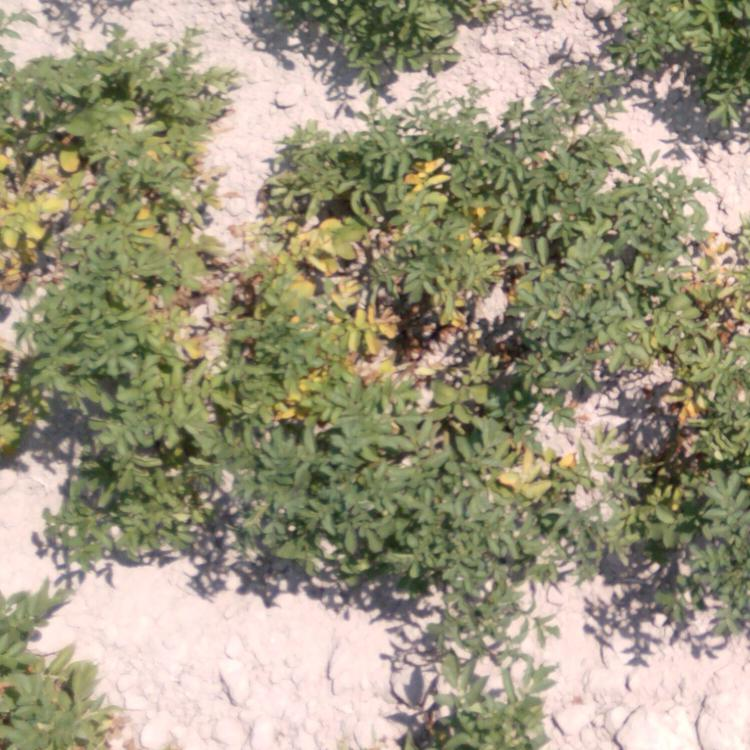healthy: (222, 453, 465, 573), (53, 412, 206, 565), (411, 583, 535, 750), (3, 587, 106, 750), (494, 105, 655, 200), (626, 1, 735, 116), (291, 1, 460, 71)
stressed: (212, 223, 371, 433), (383, 217, 516, 439), (1, 53, 188, 194), (622, 421, 750, 598), (620, 240, 750, 401), (4, 195, 191, 302), (281, 115, 463, 210), (489, 449, 604, 575), (35, 307, 180, 398), (529, 216, 604, 387)
